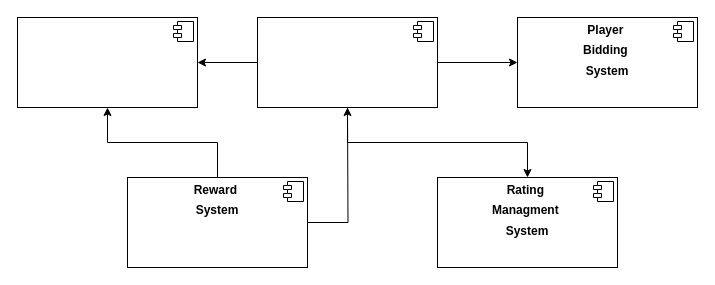
Some shapes in this 715 by 285 pixel diagram are drawn without their labels. The shapes that lost their labels are listed below. From the top down, each one's box as (x1, y1, x2, y2) in pixels, then its label:
(16, 16, 198, 108): Tournament Managment System
(256, 16, 438, 108): Team/Group Managment System
